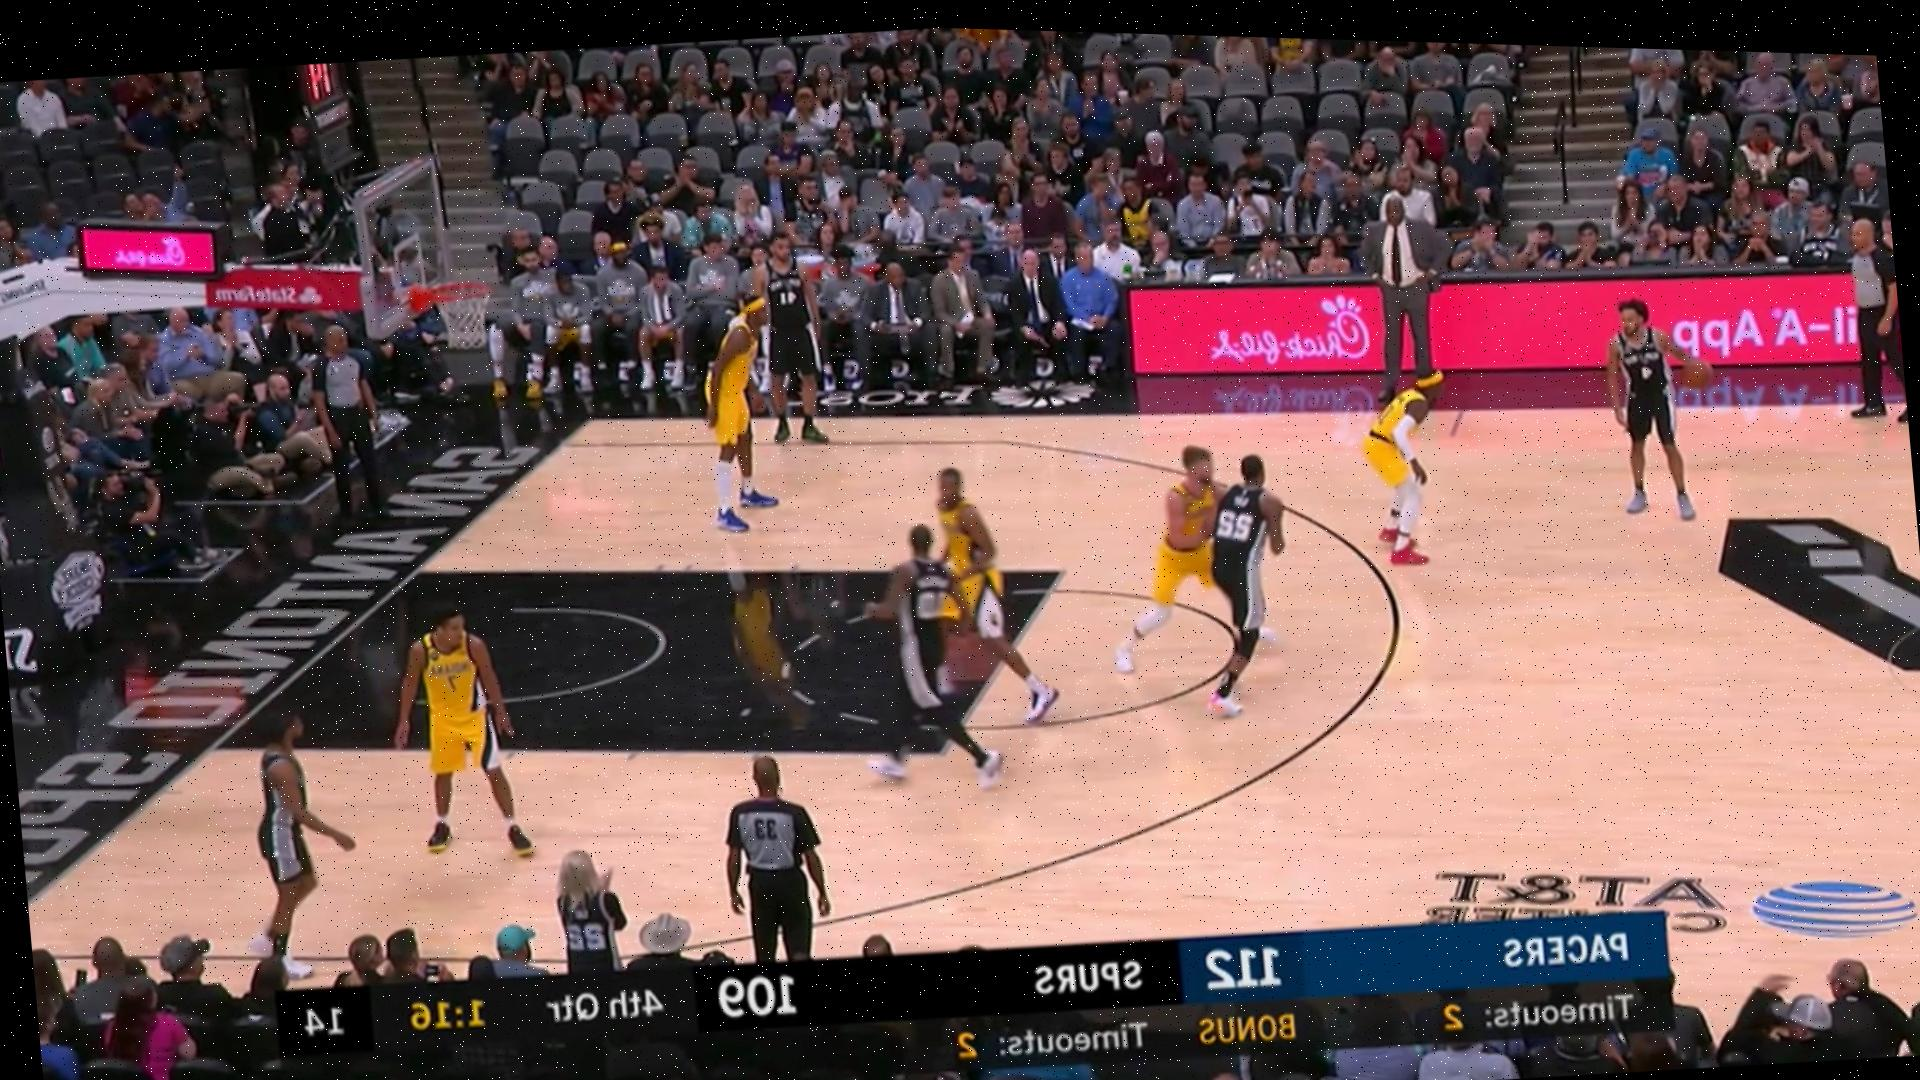no_foul: (1108, 411, 1314, 722)
